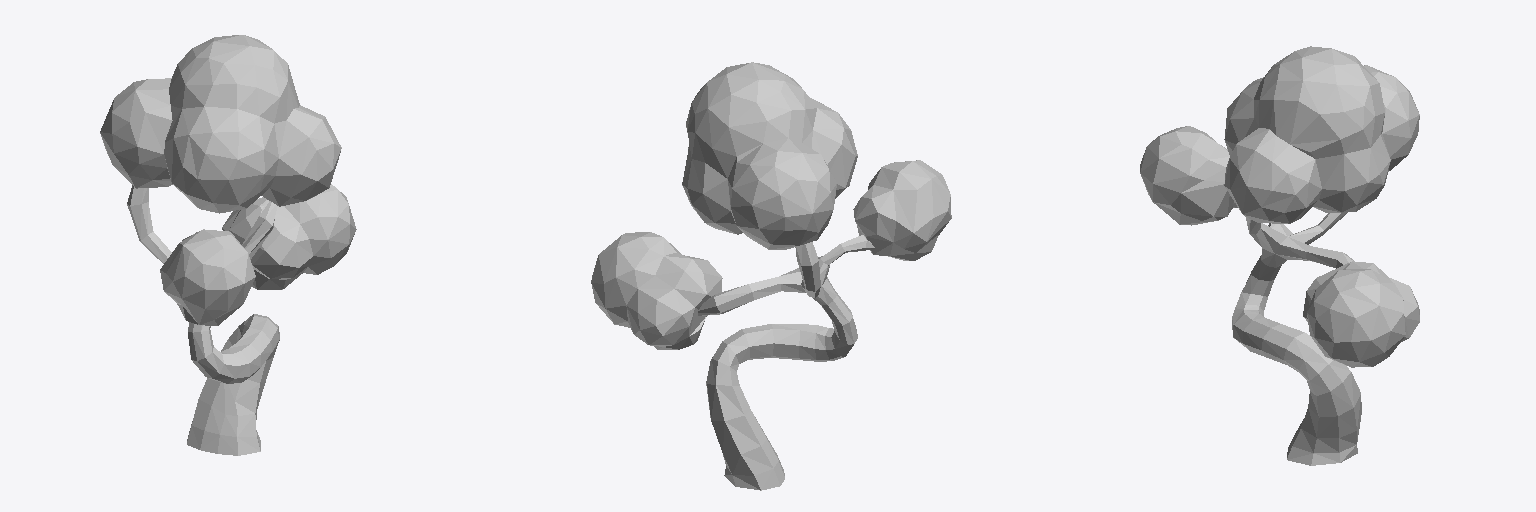
The model's file is Arbol2.obj.
3 views of the same model, side by side, from view 1: azimuth 30°, elevation 25°; view 2: azimuth 150°, elevation 25°; view 3: azimuth 270°, elevation 25° (orthographic).
Visible parts, largest first — view 1: polySurface9; view 2: polySurface9; view 3: polySurface9.
Boxes of the visible parts, x1,y1,x2,y2 form: polySurface9: [100, 35, 356, 455]; polySurface9: [591, 62, 951, 490]; polySurface9: [1140, 46, 1419, 465].
Bounding box in the file's own units: 2.55 × 3.72 × 2.36.